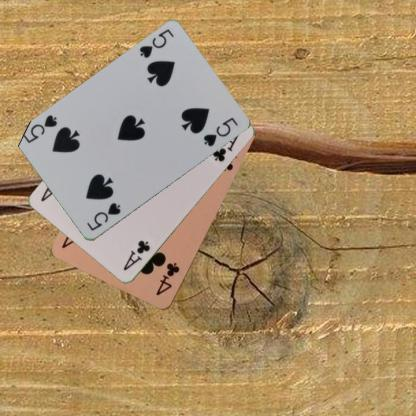4c: (153, 260, 181, 298)
5s: (136, 27, 175, 60), (84, 200, 122, 232)
Ac: (120, 238, 152, 272)
